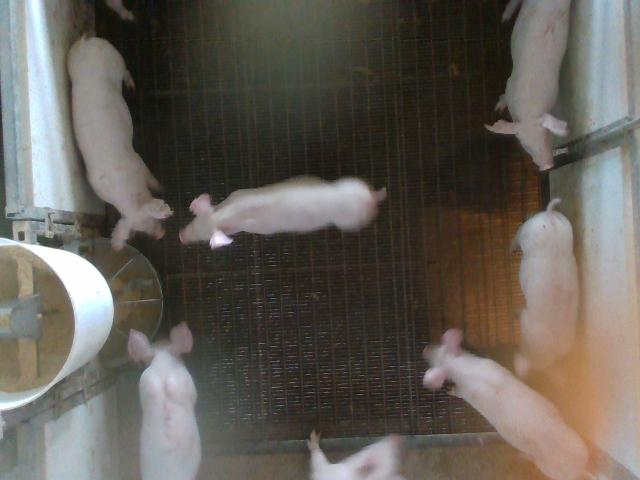pig-3: (129, 322, 201, 478)
pig-4: (515, 199, 579, 388)
